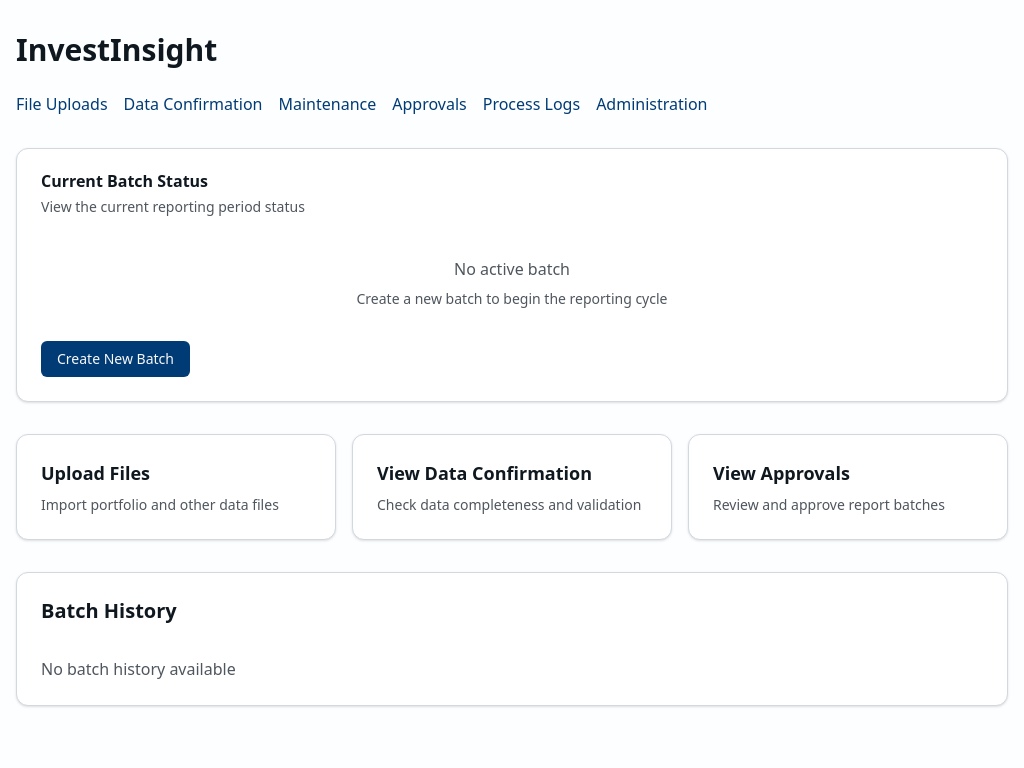
Test: Epic 1, Story 2: Start Page - Batch Creation › Error Handling › shows error when API returns duplicate batch error
The image size is (1024, 768).
# Click create button
Click the button "Create New Batch" at (116, 359), box x1=41 y1=341 x2=190 y2=377
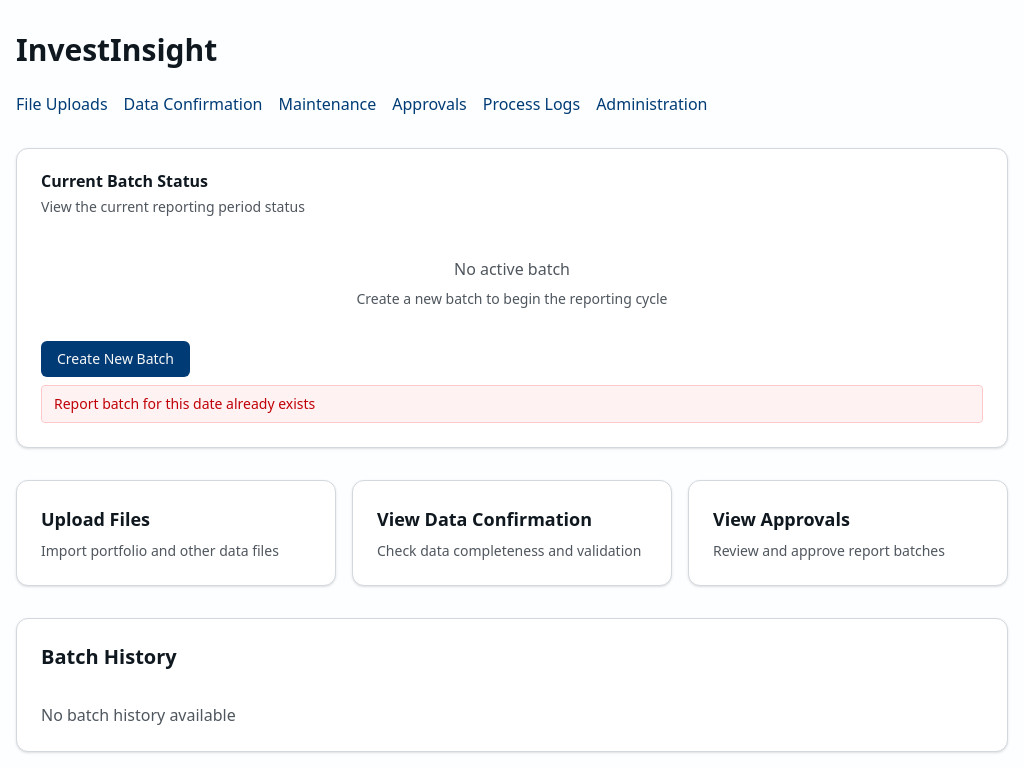
Expected: the text "Report batch for this date already exists" is shown, x1=41 y1=385 x2=983 y2=423
